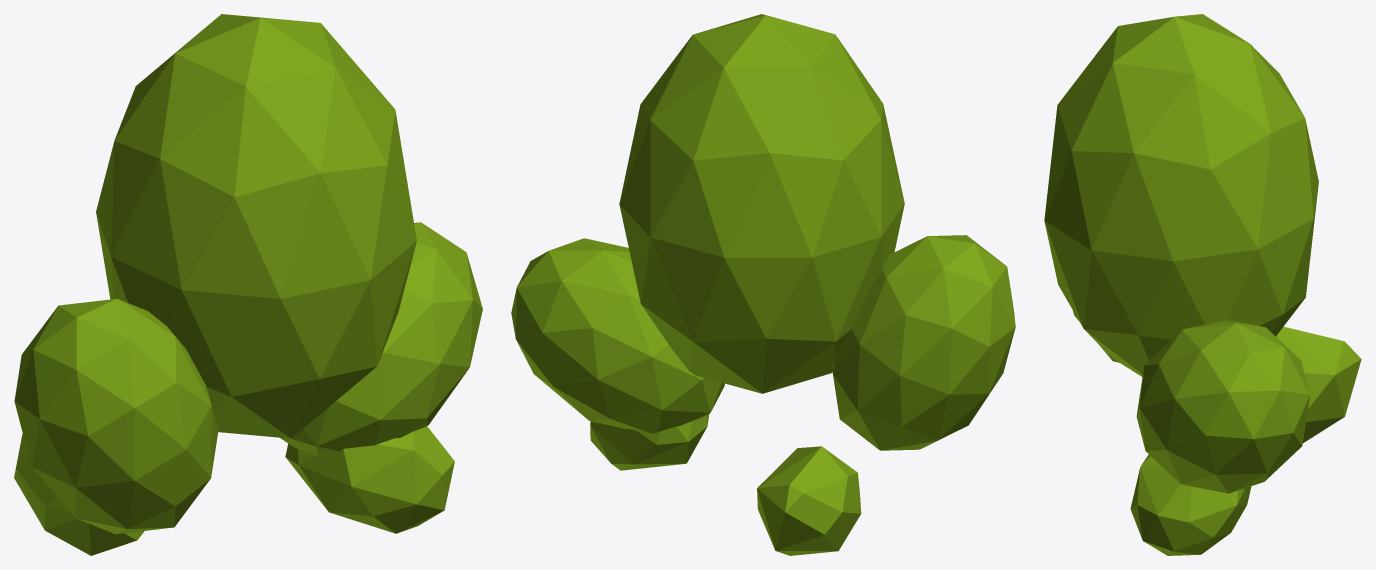
Rendered from tree-summer-leaves-10-041.glb.
3 renders of one model, left to right at view 1: azimuth 30°, elevation 25°; view 2: azimuth 150°, elevation 25°; view 3: azimuth 270°, elevation 25°, orthographic. The views are drawn at different scales.
Parts seen in each view (by area): view 1: TREE 10_281; view 2: TREE 10_281; view 3: TREE 10_281.
Boxes of the visible parts, x1,y1,x2,y2 form: TREE 10_281: (14,14,482,555); TREE 10_281: (511,14,1015,555); TREE 10_281: (1044,14,1361,555).
Size of the model in its own units: 1.19 by 1.25 by 0.7525.
